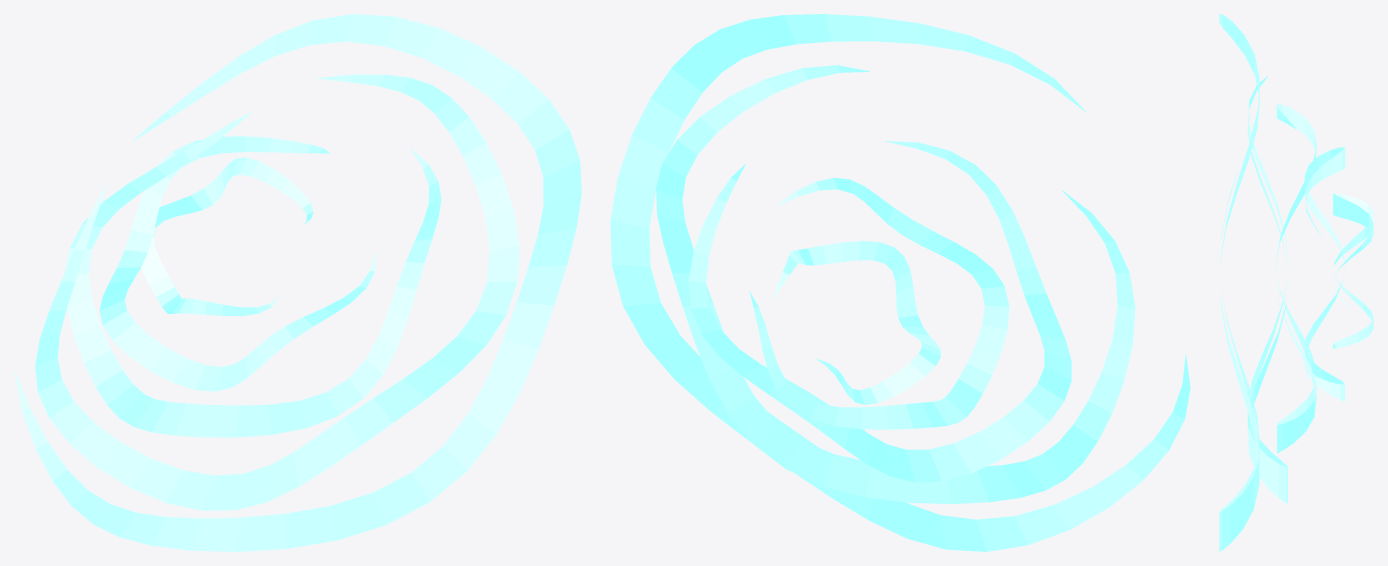
File: pressure.glb
3 views of the same model, side by side, from view 1: azimuth 30°, elevation 25°; view 2: azimuth 150°, elevation 25°; view 3: azimuth 270°, elevation 25° (orthographic). The views are drawn at different scales.
Parts seen in each view (by area): view 1: pressure; view 2: pressure; view 3: pressure.
Part boxes in pixels (box(x1,y1,x2,y2)): pressure: box(14, 14, 581, 551); pressure: box(610, 14, 1190, 551); pressure: box(1219, 14, 1373, 551).
Bounding box in the file's own units: 0.7449 × 0.6472 × 0.1899.
